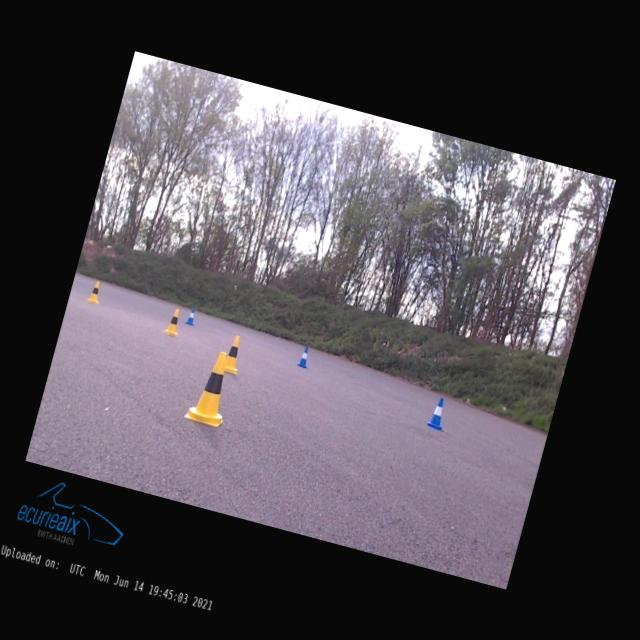blue_cone: (426, 396, 449, 431), (297, 345, 311, 368), (184, 307, 197, 325)
yellow_cone: (183, 347, 239, 428), (224, 334, 246, 374), (164, 307, 183, 335), (87, 280, 103, 302)
